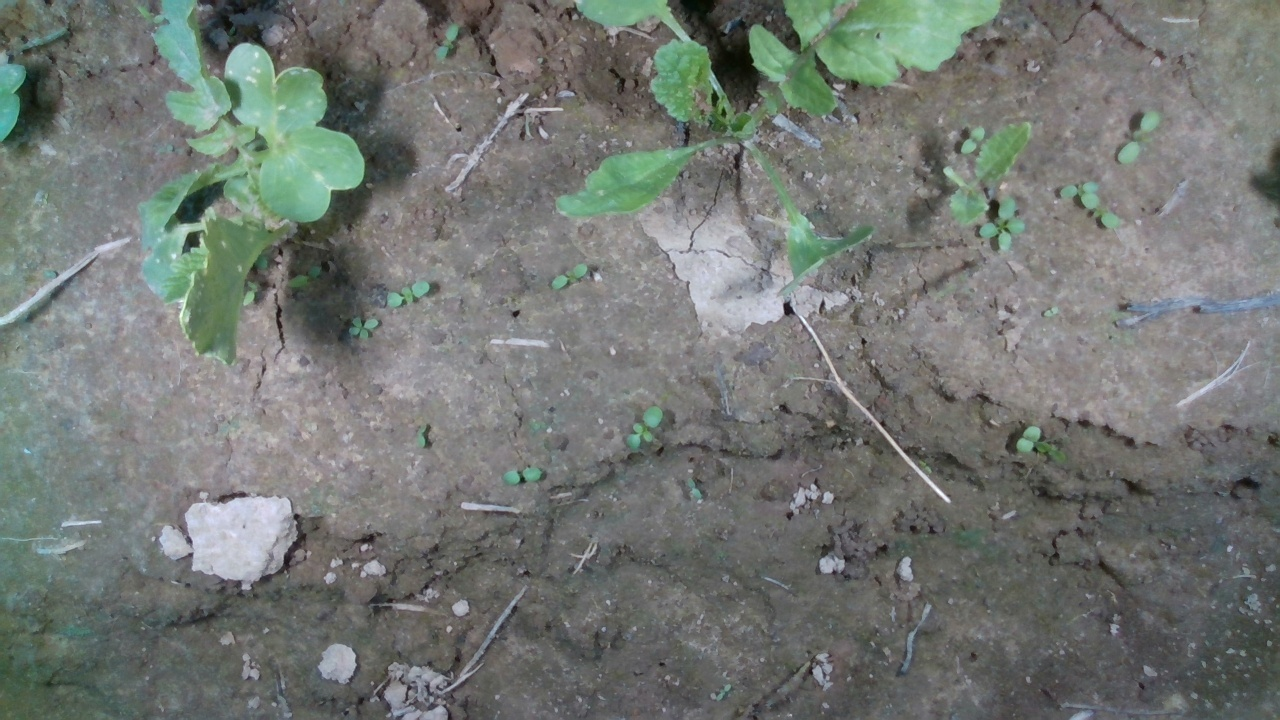weed: (1115, 110, 1161, 167), (625, 405, 664, 450), (384, 278, 430, 309), (550, 262, 587, 290), (345, 315, 381, 341), (501, 465, 542, 486), (416, 420, 428, 450), (685, 478, 703, 498), (1042, 305, 1059, 318)
